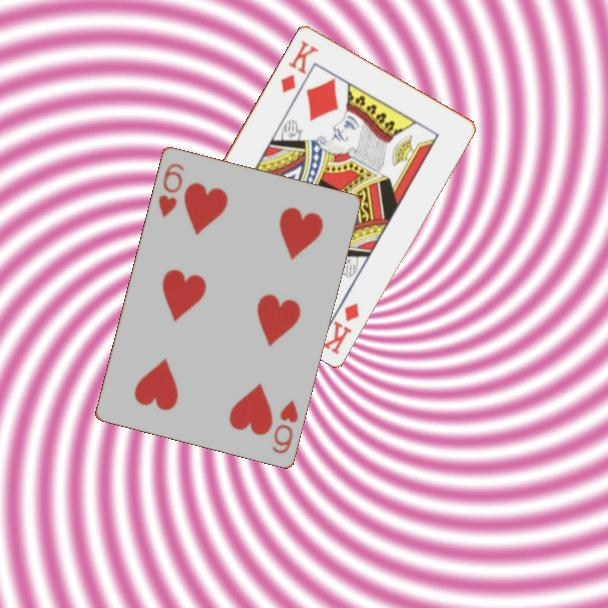d13: (277, 36, 322, 95), (318, 299, 362, 357)
h06: (154, 159, 187, 220), (268, 396, 301, 456)
